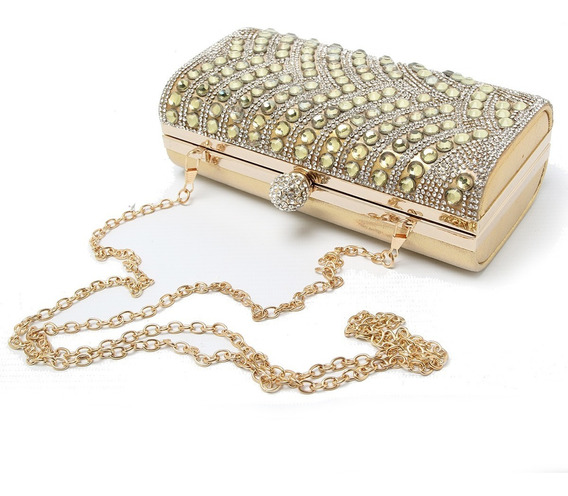cartera: (155, 24, 553, 276)
